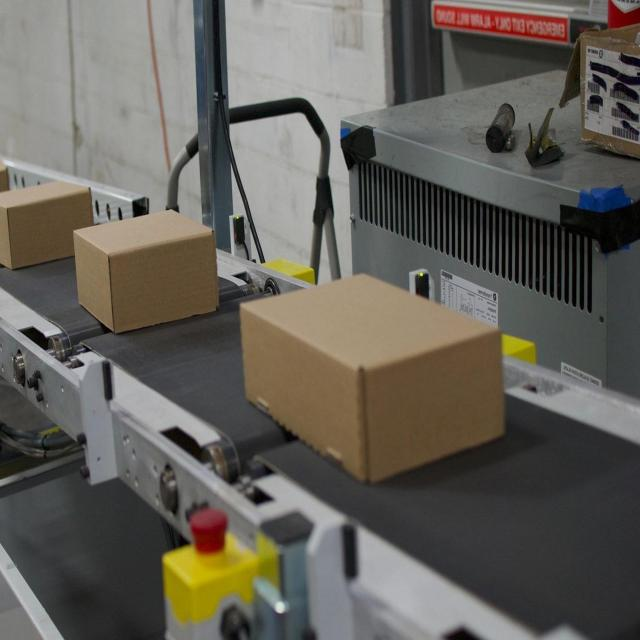food: (238, 271, 508, 485), (72, 207, 220, 335)
